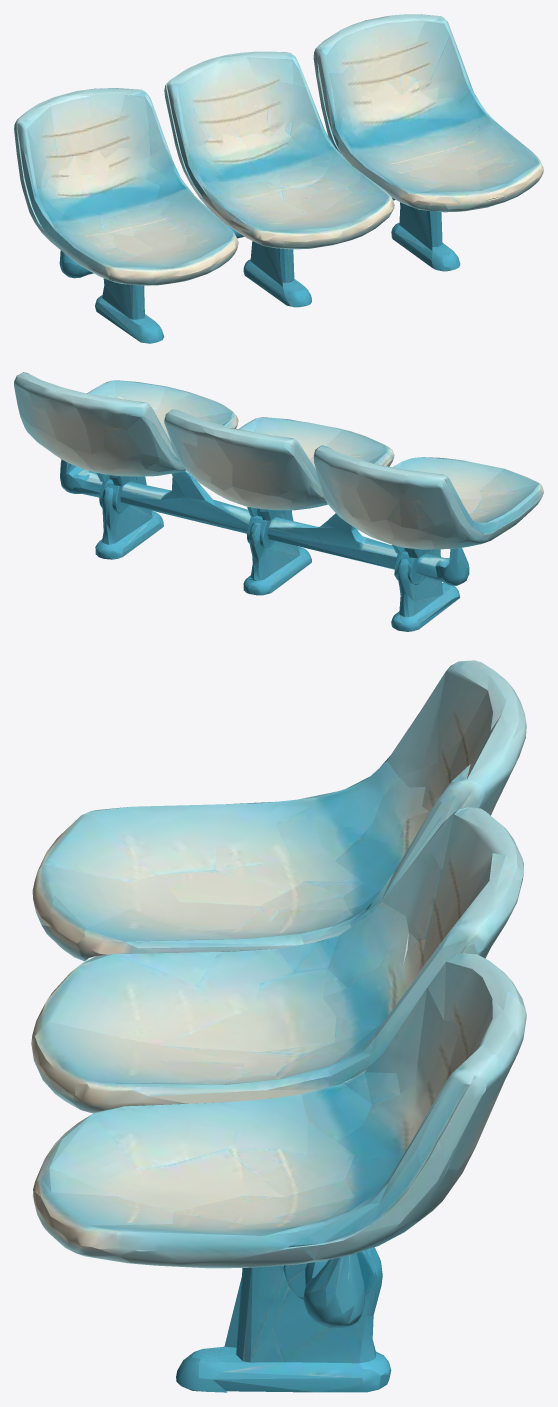
Rendered from chairs.glb.
3 views of the same model, one above another, from view 1: azimuth 30°, elevation 25°; view 2: azimuth 150°, elevation 25°; view 3: azimuth 270°, elevation 25° (orthographic). The views are drawn at different scales.
Bounding box in the file's own units: 1.9 × 0.7663 × 0.9105.
Materials: 1 (1 with a texture image).
